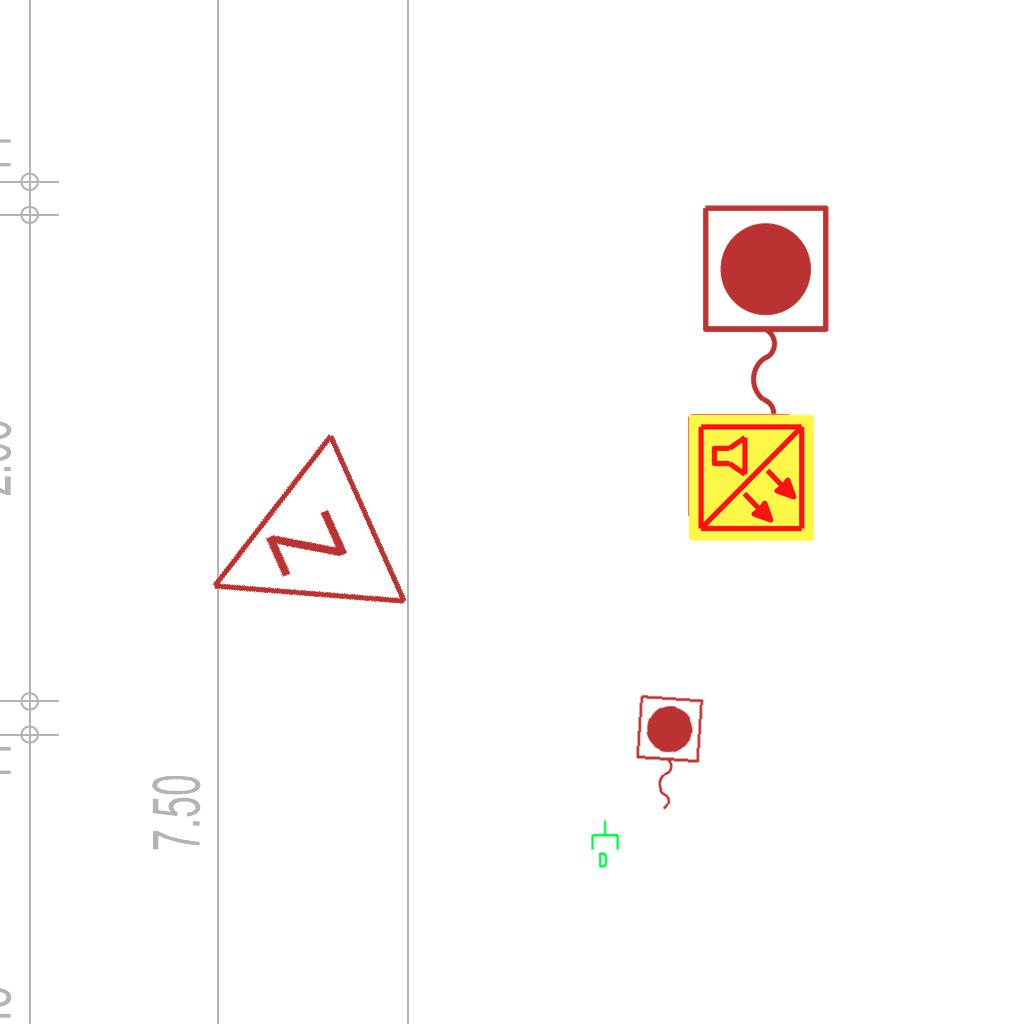Datenanschluss_einfach: (589, 819, 623, 869)
OKW_Multisensormelder_(Kombination_optischer_Rauch-Kahlenmonoxid_Waerme-Melder): (685, 412, 817, 544)
Zimmersignalleuchte: (161, 423, 425, 685)
Zugtaster: (692, 197, 836, 441), (626, 690, 708, 818)
